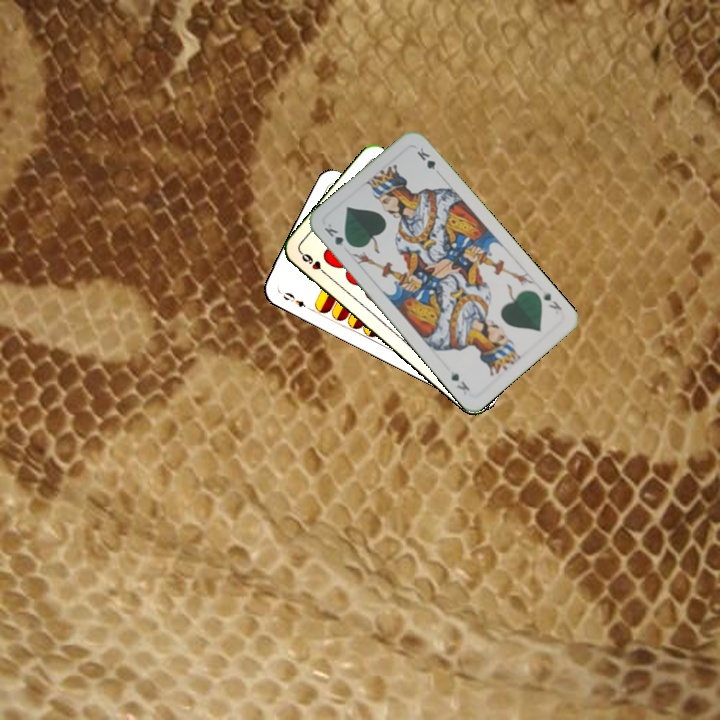E9: (276, 287, 313, 313)
GK: (320, 219, 355, 250), (539, 288, 564, 313)
H9: (296, 248, 330, 278)
